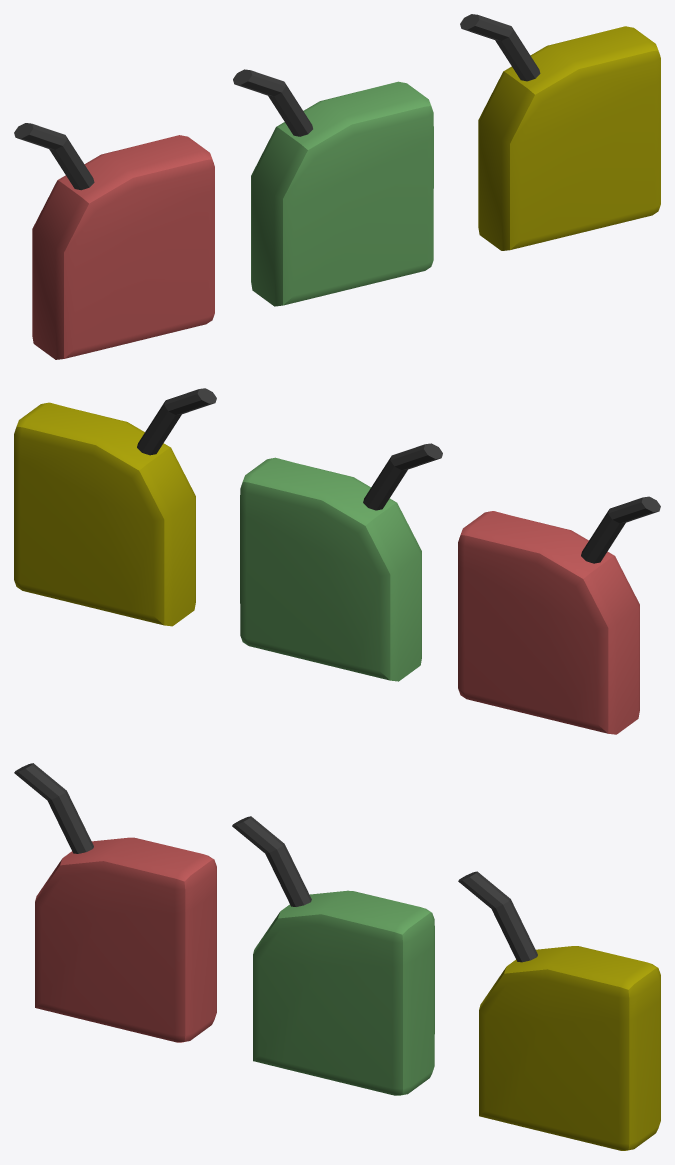
Rendered from cans.fbx.
3 views of the same model, one above another, from view 1: azimuth 30°, elevation 25°; view 2: azimuth 150°, elevation 25°; view 3: azimuth 330°, elevation 25° (orthographic).
Visible parts, largest first — view 1: pCylinder11, pCylinder9, pCylinder10; view 2: pCylinder9, pCylinder10, pCylinder11; view 3: pCylinder9, pCylinder10, pCylinder11.
Part boxes in pixels (box(x1,y1,x2,y2)): pCylinder11: box(460, 14, 660, 250); pCylinder9: box(233, 69, 433, 306); pCylinder10: box(14, 123, 214, 359); pCylinder9: box(240, 443, 442, 681); pCylinder10: box(458, 496, 660, 734); pCylinder11: box(14, 388, 216, 626); pCylinder9: box(232, 816, 434, 1095); pCylinder10: box(14, 763, 216, 1042); pCylinder11: box(458, 871, 660, 1150).
Bounding box in the file's own units: 163 × 57.29 × 16.05.
